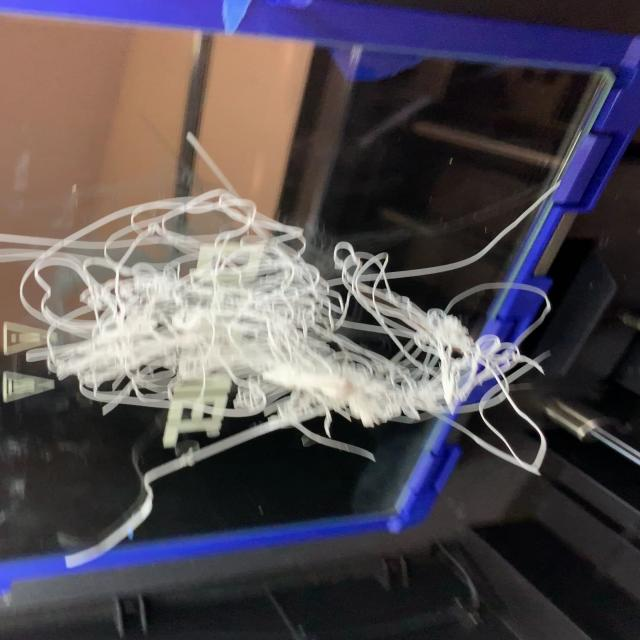spaghetti: (11, 188, 554, 477)
